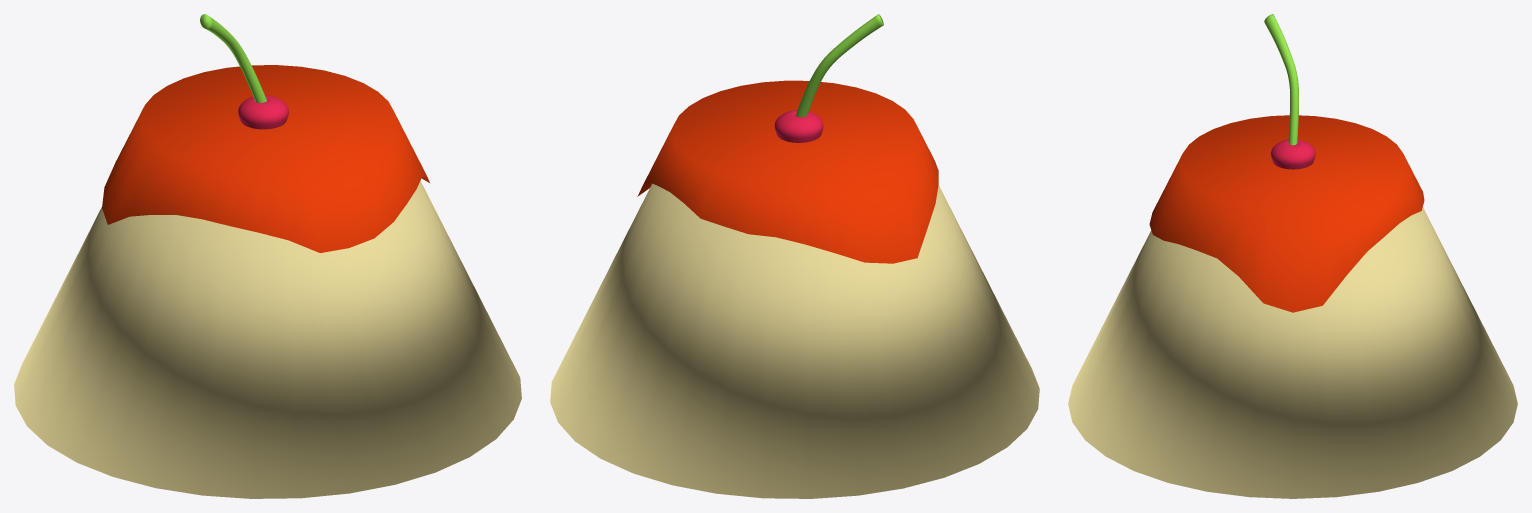
Rendered from purin.glb.
3 views of the same model, side by side, from view 1: azimuth 30°, elevation 25°; view 2: azimuth 150°, elevation 25°; view 3: azimuth 270°, elevation 25° (orthographic). The views are drawn at different scales.
Visible parts, largest first — view 1: 球, 球.001; view 2: 球, 球.001; view 3: 球, 球.001.
Part boxes in pixels (<box>): 球: <box>14,14,521,498</box>; 球.001: <box>102,65,429,252</box>; 球: <box>550,14,1039,498</box>; 球.001: <box>637,80,938,263</box>; 球: <box>1068,14,1517,498</box>; 球.001: <box>1149,115,1424,312</box>.
Size of the model in its own units: 2 by 1.75 by 2.
